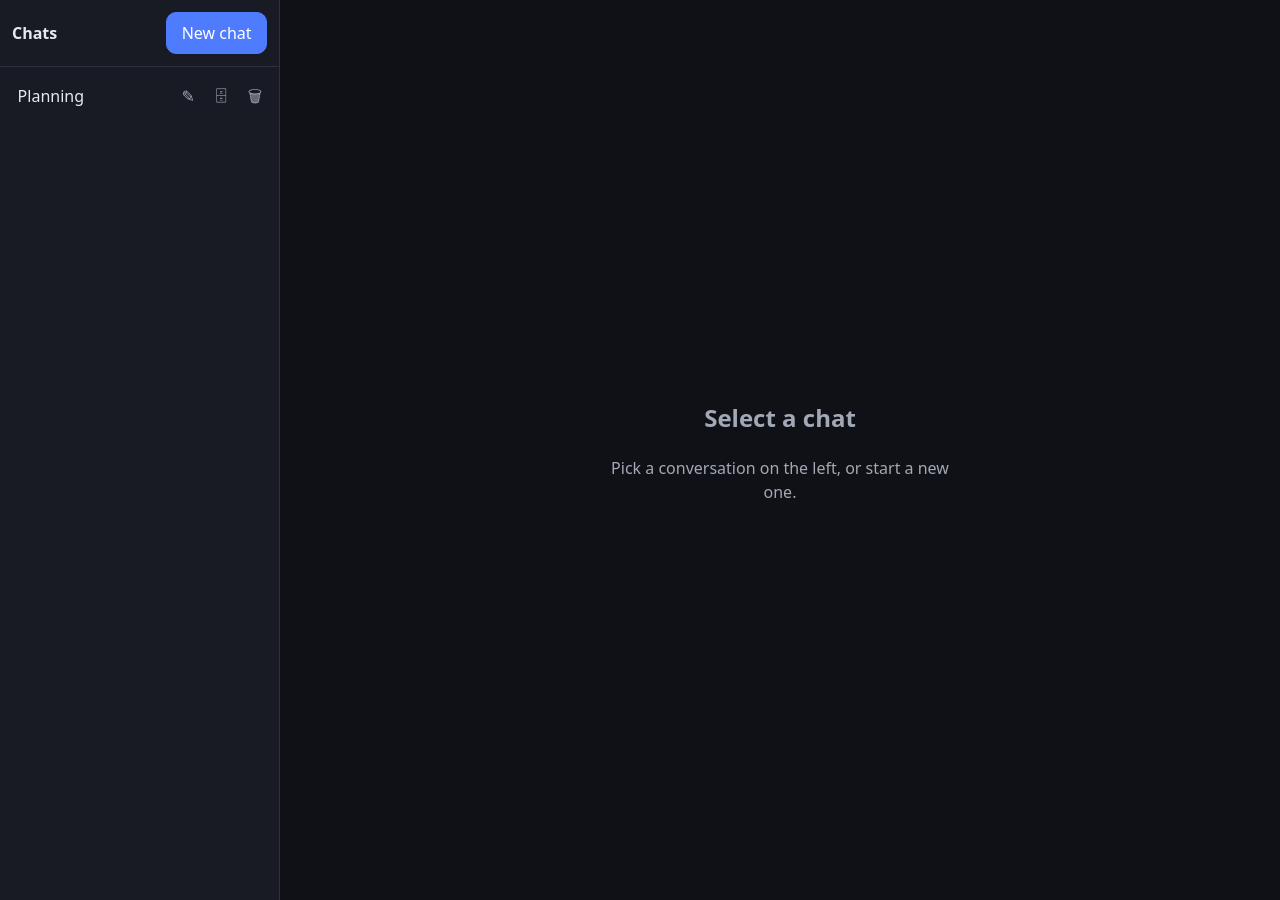
Scenario: session list › renames a session
Click the button named "Rename Planning" at (188, 96), box [174,79,202,113]
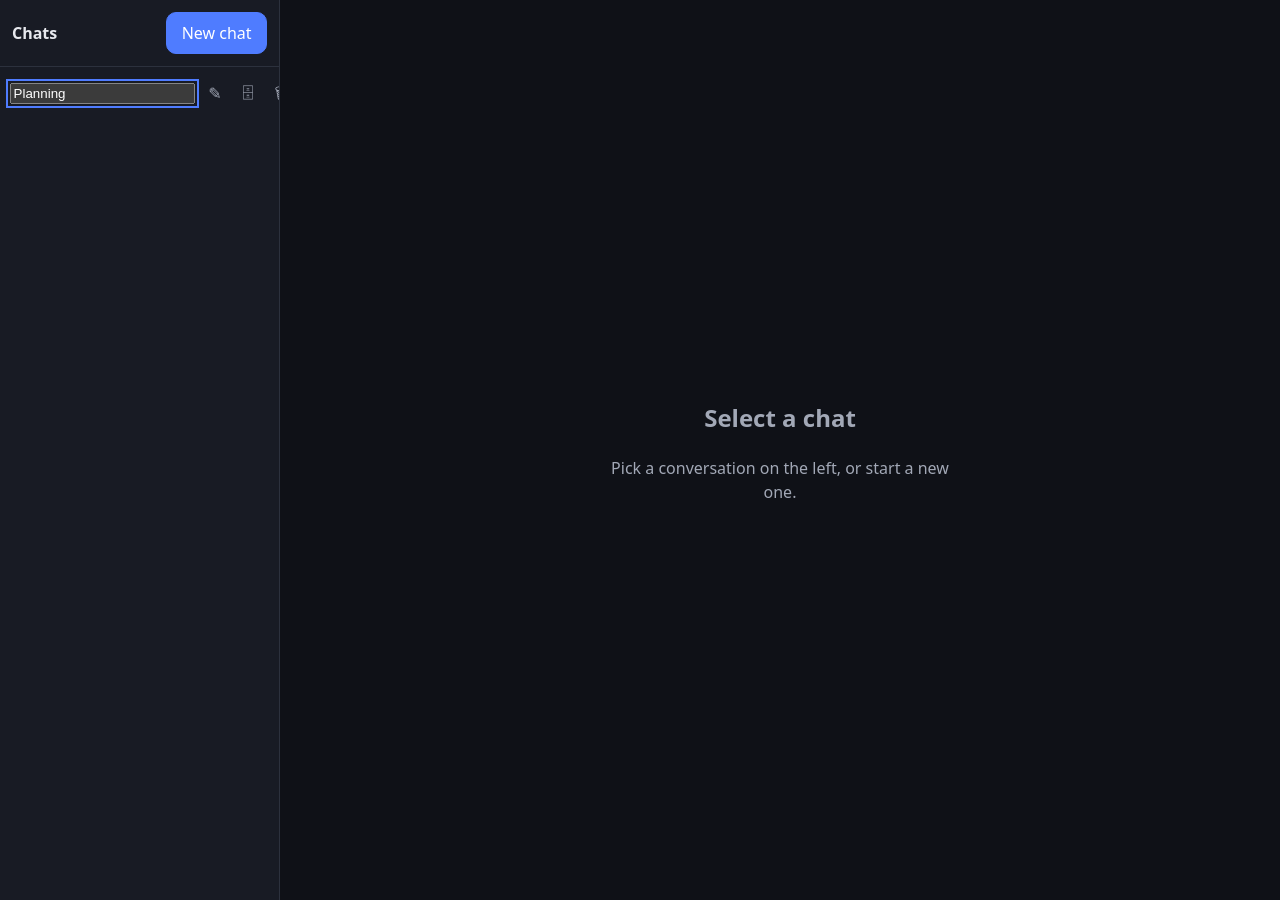
Replace the text in the field named "Rename chat" with "Roadmap" at (102, 93), box [10,83,195,104]
Then press Enter
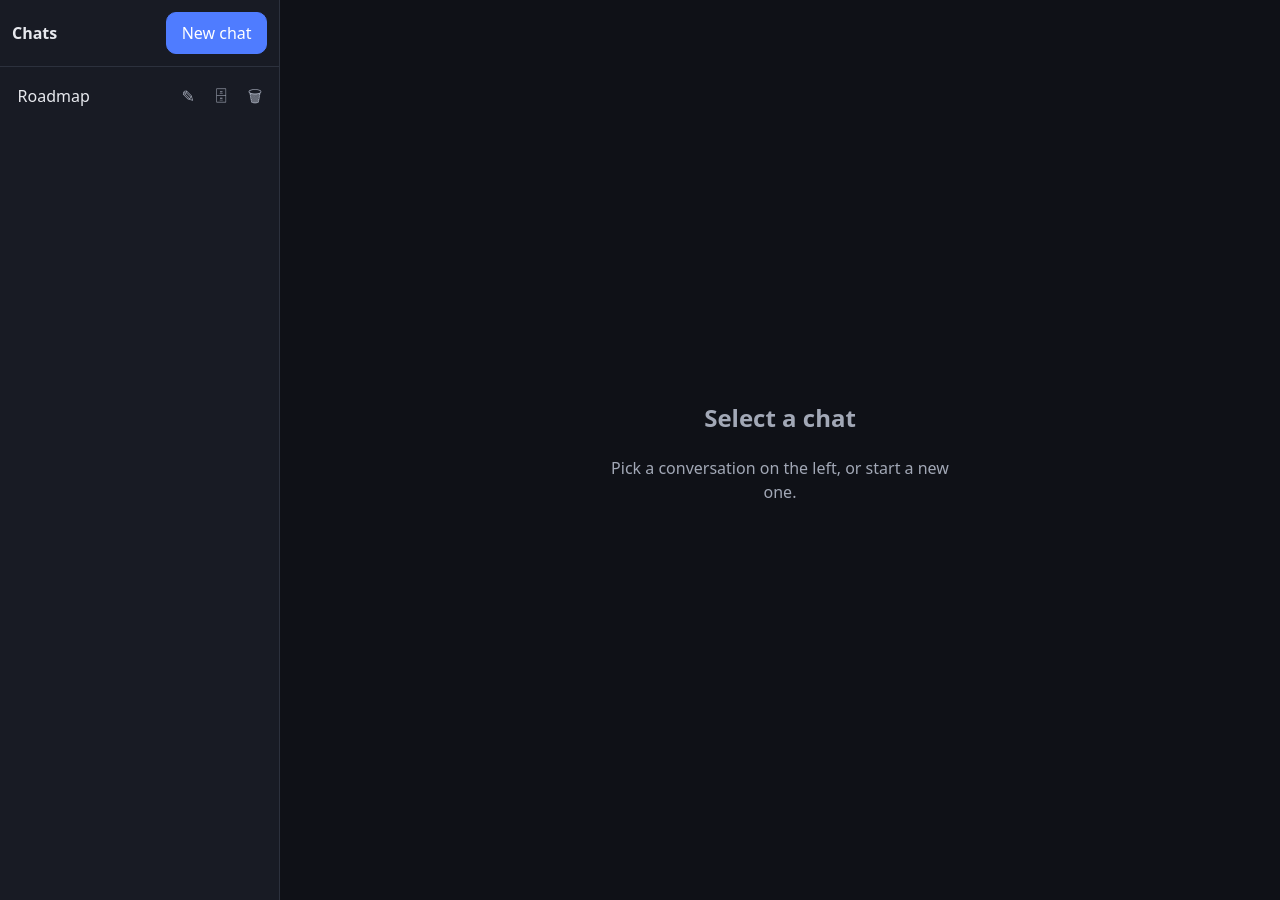
Result: the button "Roadmap" is shown at [10,77,168,115]
